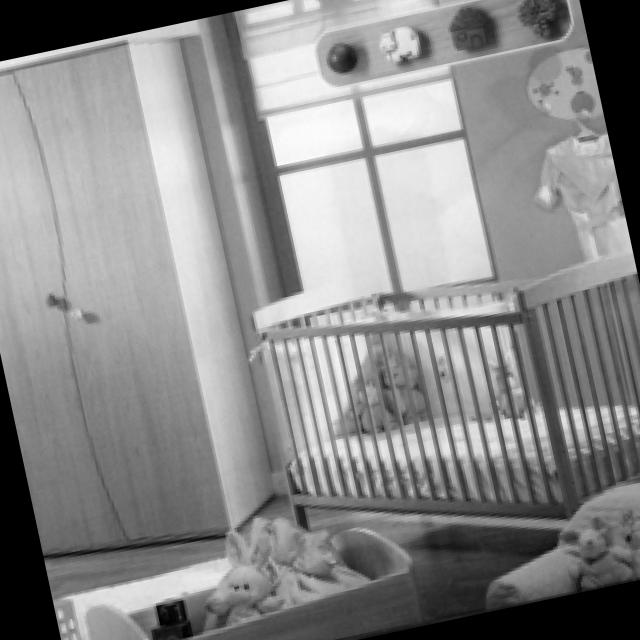2001: (217, 0, 526, 434)
armchair occluded: (483, 480, 640, 607)
closet crop: (0, 34, 274, 555)
clothes washer: (314, 0, 569, 84)
cradle: (247, 247, 640, 538)
floor -X: (42, 476, 640, 640)
toys: (78, 516, 424, 640)
